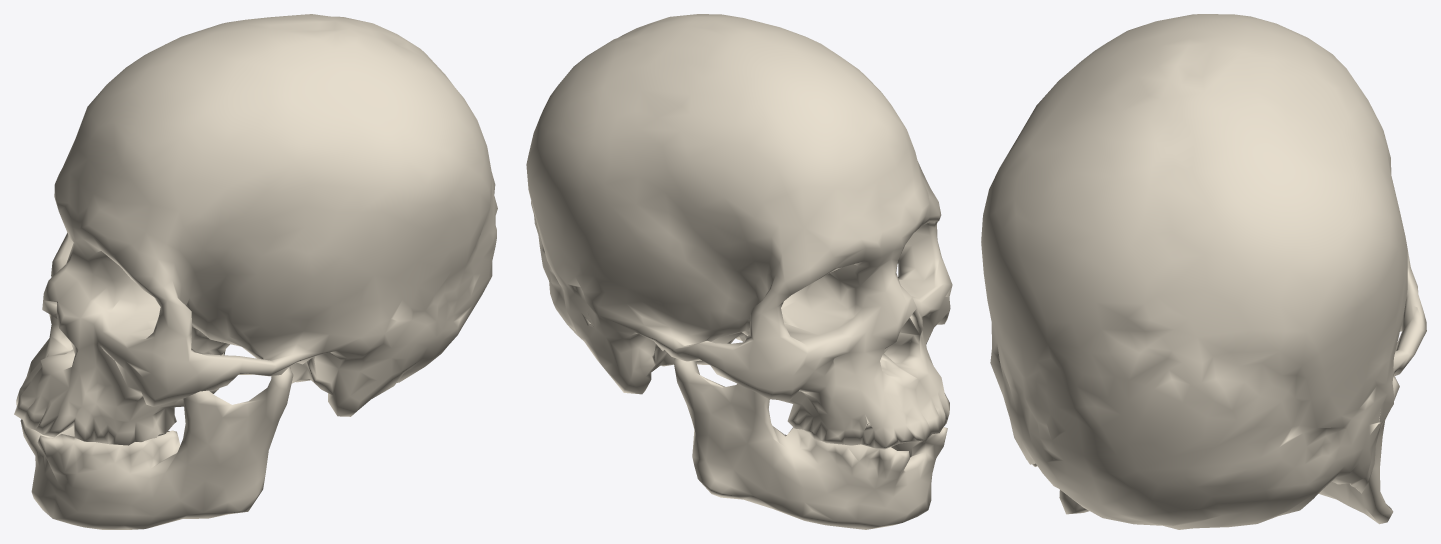
Rendered from mhs.glb.
3 renders of one model, left to right at view 1: azimuth 30°, elevation 25°; view 2: azimuth 150°, elevation 25°; view 3: azimuth 270°, elevation 25°, orthographic. The views are drawn at different scales.
Visible parts, largest first — view 1: Human Skull Combined.obj.001; view 2: Human Skull Combined.obj.001; view 3: Human Skull Combined.obj.001.
Boxes of the visible parts, x1=… form: Human Skull Combined.obj.001: x1=14, y1=14, x2=497, y2=529; Human Skull Combined.obj.001: x1=526, y1=14, x2=952, y2=529; Human Skull Combined.obj.001: x1=981, y1=14, x2=1426, y2=529.
Size of the model in its own units: 0.1919 by 0.191 by 0.1399.
